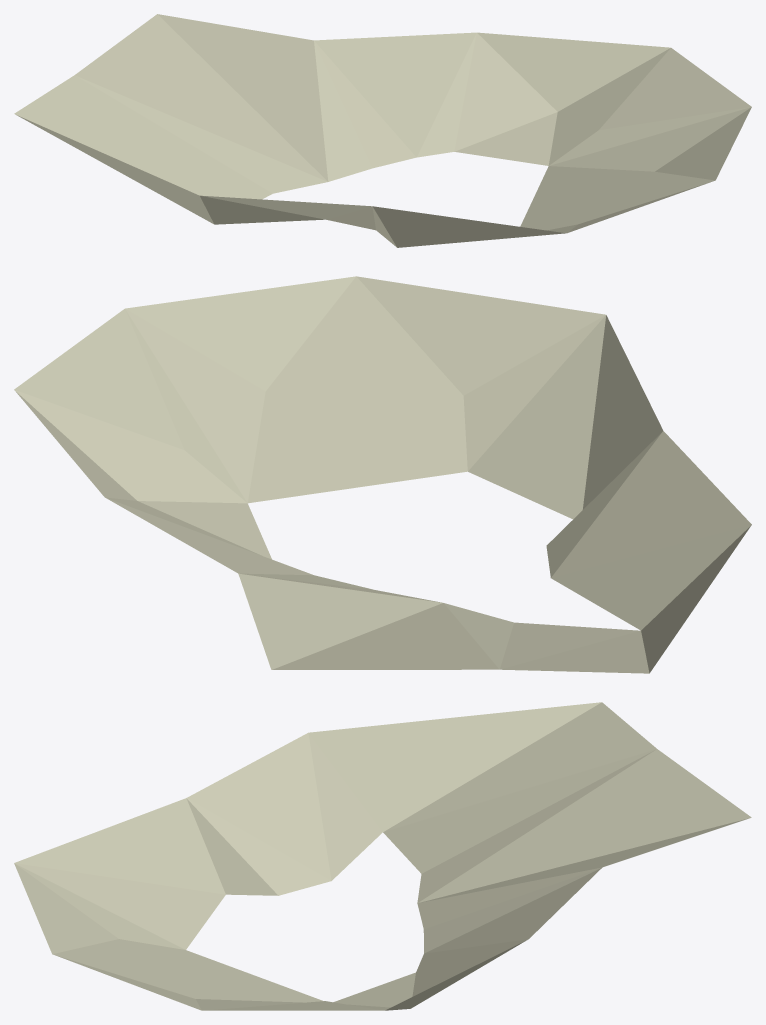
File: waterSand.fbx
3 views of the same model, one above another, from view 1: azimuth 30°, elevation 25°; view 2: azimuth 150°, elevation 25°; view 3: azimuth 270°, elevation 25° (orthographic). The views are drawn at different scales.
Parts seen in each view (by area): view 1: polySurface4; view 2: polySurface4; view 3: polySurface4.
Part boxes in pixels (x1,y1,x2,y2): polySurface4: (14,14,751,247); polySurface4: (14,276,751,673); polySurface4: (14,702,751,1010).
Bounding box in the file's own units: 0.3437 × 0.038 × 0.3474.
